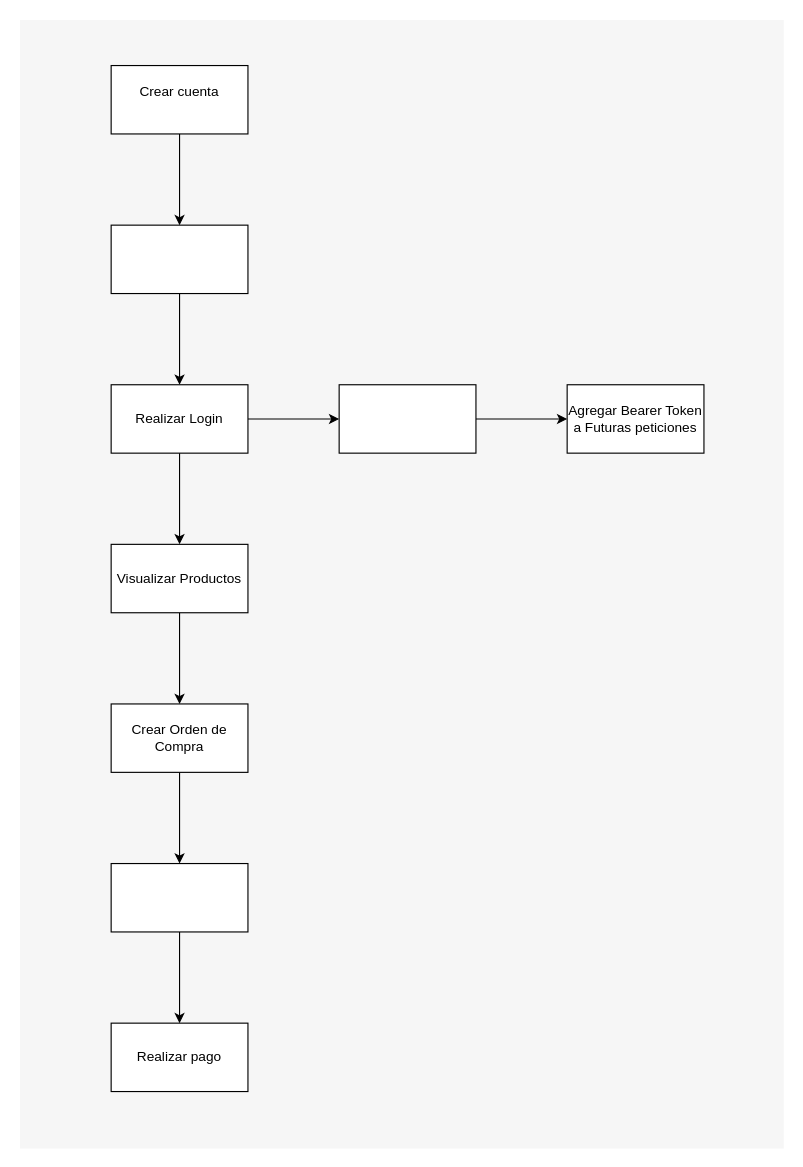
Image size: 803x1167. Some labels were removed from this diagram. The box of each missing label's shape, as (x1, y1, x2, y2) in pixels:
Agregar Dinero a Cuenta: (110, 862, 248, 932)
Obtener token de Autenticación: (338, 384, 476, 453)
Validar correo Electrónico y Confirmar cuenta: (110, 224, 248, 294)
